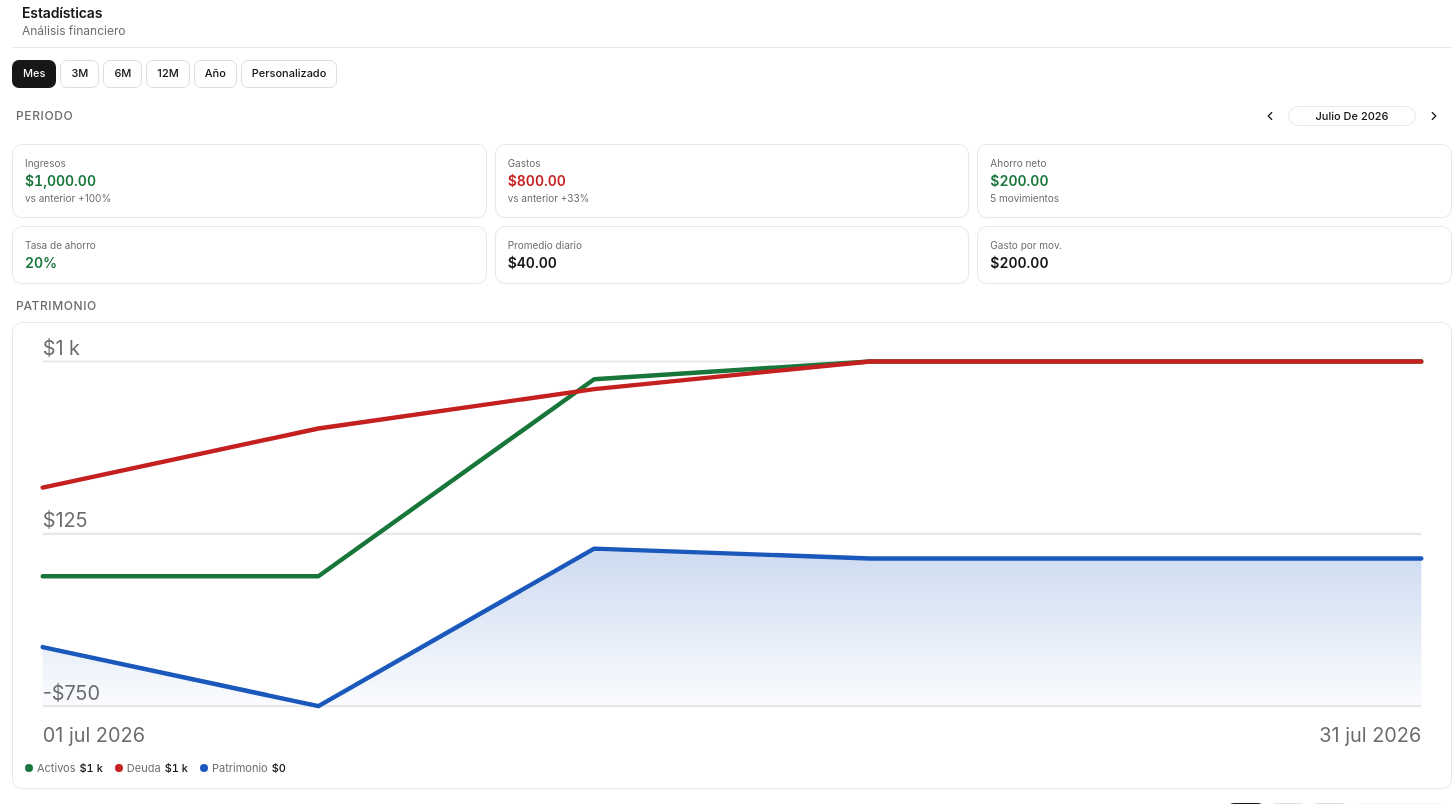
StatsPage › navigates between months and shows zeroes for a month without movements
Click the button named "Mes anterior": [1270, 116] box x1=1256 y1=102 x2=1284 y2=130
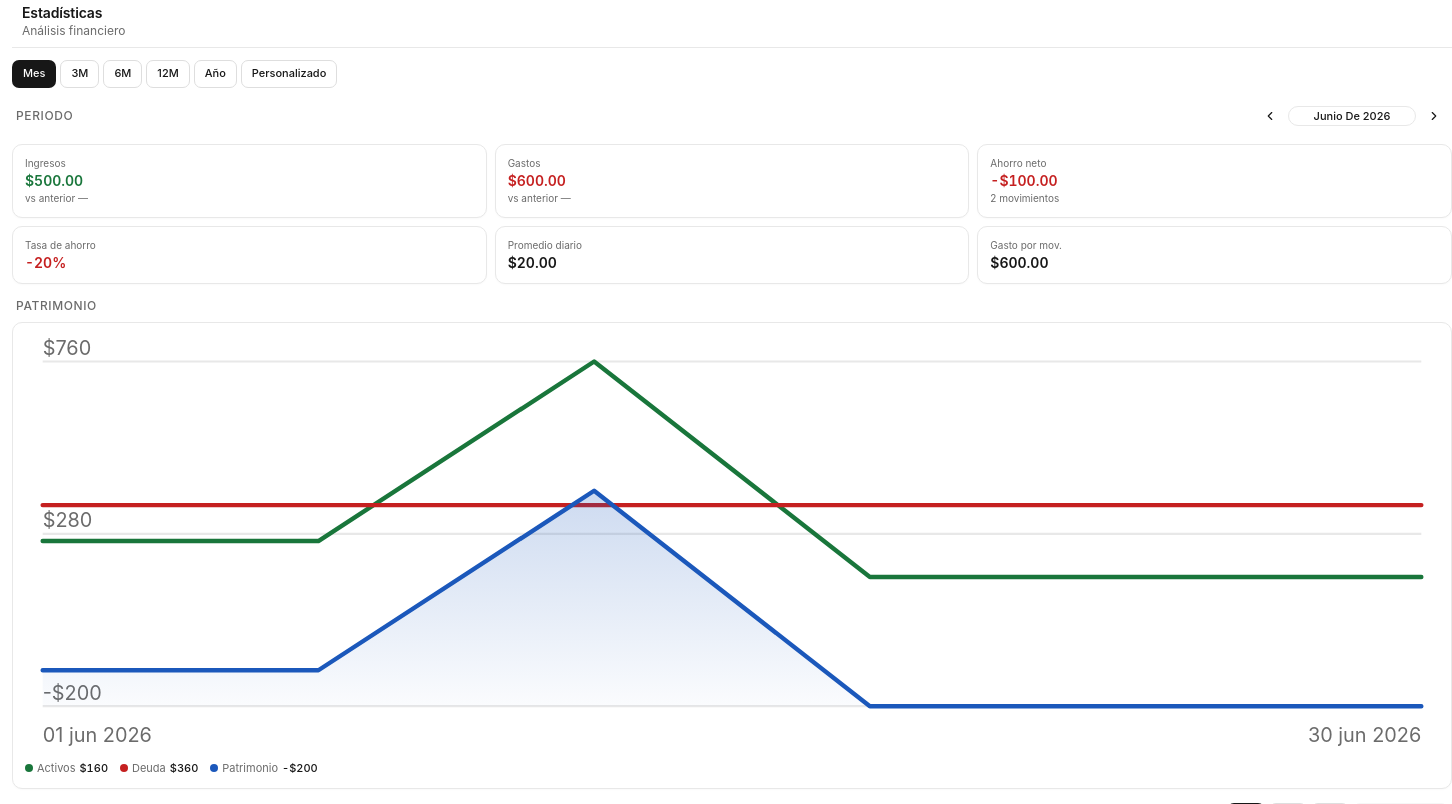
Now the text "junio de 2026" is shown, box x1=1314 y1=110 x2=1390 y2=122
Click the button named "Mes siguiente": [1434, 116] box x1=1420 y1=102 x2=1448 y2=130
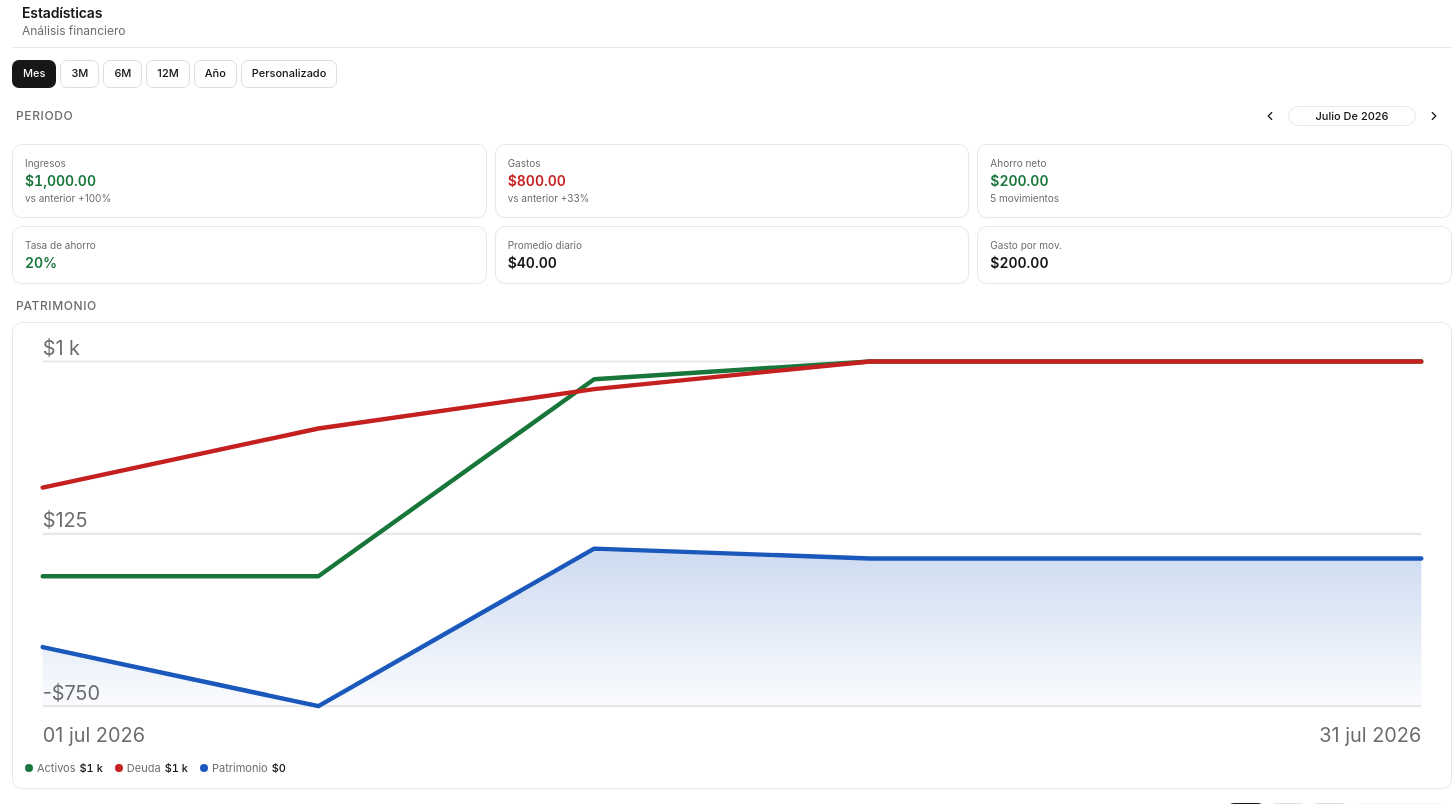
Click the button named "Mes siguiente": [1434, 116] box x1=1420 y1=102 x2=1448 y2=130
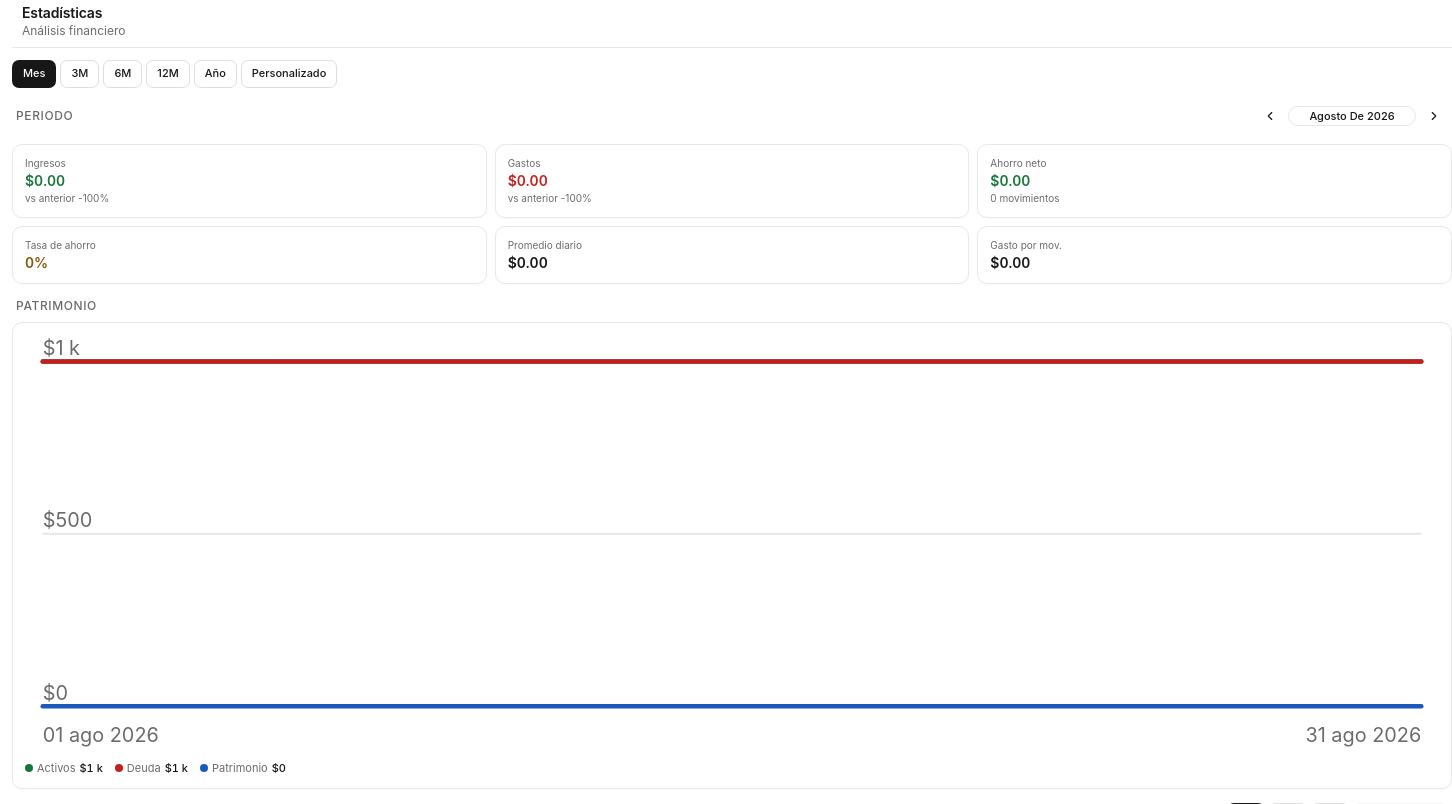
Now the text "agosto de 2026" is shown, box x1=1309 y1=110 x2=1395 y2=122
